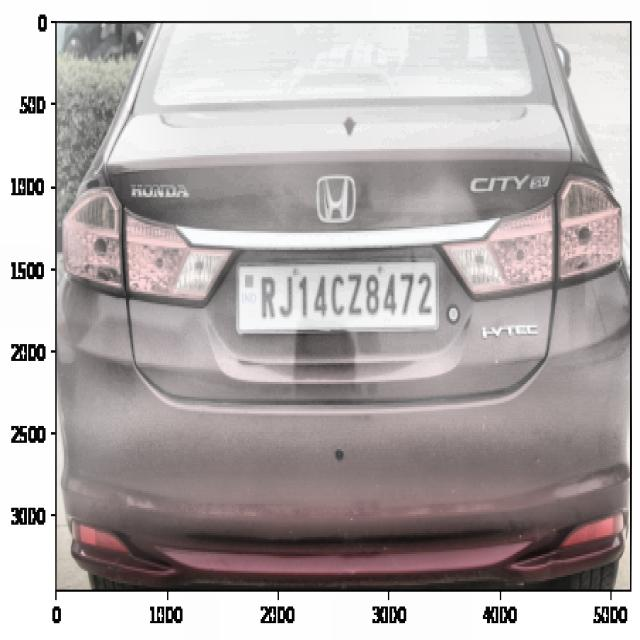license_plate: (245, 262, 440, 331)
